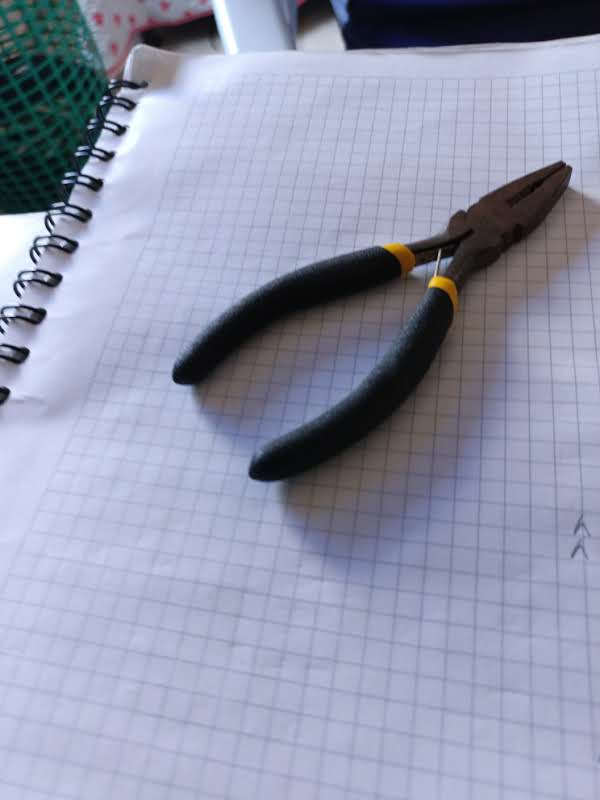Pinzas: (174, 161, 570, 480)
